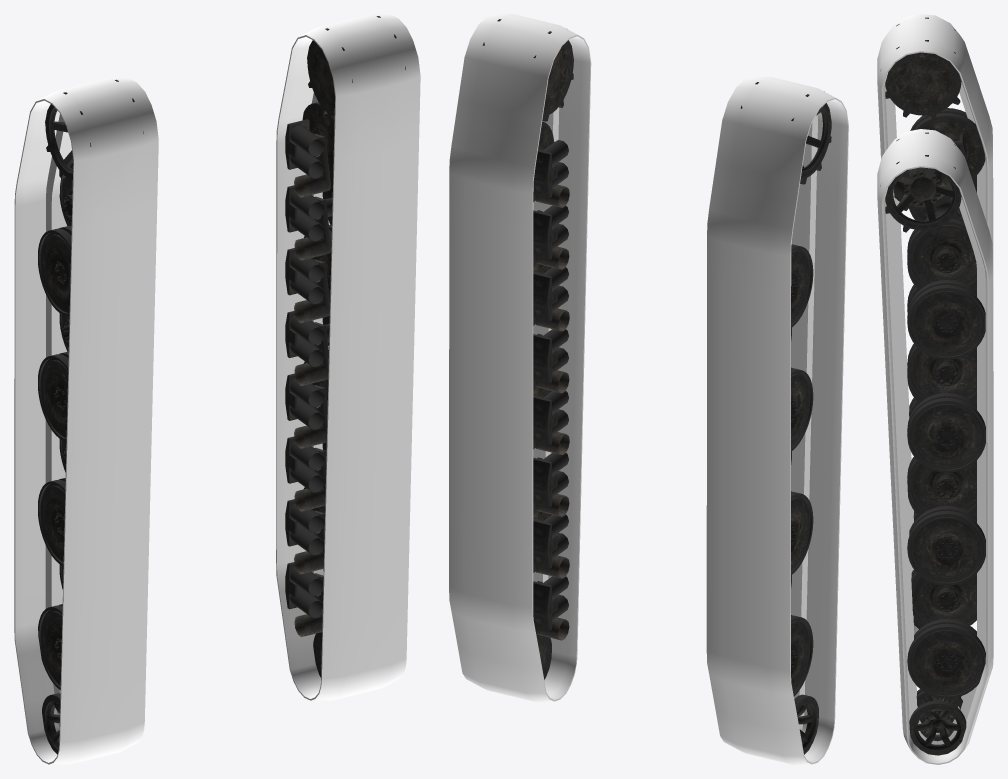
The model's file is Chassis.glb.
3 renders of one model, left to right at view 1: azimuth 30°, elevation 25°; view 2: azimuth 150°, elevation 25°; view 3: azimuth 270°, elevation 25°, orthographic. The views are drawn at different scales.
Parts seen in each view (by area): view 1: set_1_group_0, set_0_group_0, set_3_group_0, set_2_group_0; view 2: set_1_group_0, set_0_group_0, set_3_group_0, set_2_group_0; view 3: set_3_group_0, set_0_group_0, set_1_group_0, set_2_group_0.
Part boxes in pixels (left/top/right/bottom): set_1_group_0: left=14, top=78, right=158, bottom=764; set_0_group_0: left=276, top=14, right=420, bottom=700; set_3_group_0: left=285, top=16, right=405, bottom=677; set_2_group_0: left=38, top=79, right=143, bottom=754; set_1_group_0: left=706, top=77, right=848, bottom=764; set_0_group_0: left=449, top=14, right=591, bottom=701; set_3_group_0: left=482, top=19, right=573, bottom=679; set_2_group_0: left=740, top=82, right=831, bottom=754; set_3_group_0: left=880, top=132, right=985, bottom=755; set_0_group_0: left=877, top=129, right=993, bottom=764; set_1_group_0: left=877, top=14, right=993, bottom=634; set_2_group_0: left=880, top=17, right=985, bottom=629.
Size of the model in its own units: 4.09 by 7.62 by 1.33.
Materials: 4 (2 with a texture image).
